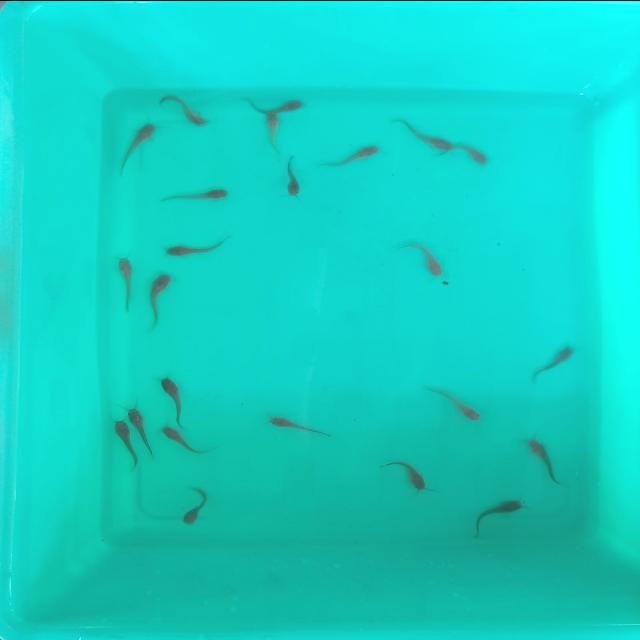lele: (116, 117, 166, 174), (426, 382, 486, 425), (467, 498, 529, 538), (388, 116, 447, 158), (394, 240, 446, 282), (158, 91, 212, 129), (528, 434, 564, 488), (159, 422, 213, 457), (158, 374, 190, 432), (529, 342, 577, 380), (128, 403, 160, 457), (322, 142, 388, 168), (443, 132, 490, 166), (111, 422, 142, 471), (380, 460, 424, 490), (182, 488, 212, 528), (268, 416, 328, 436), (150, 272, 170, 330), (157, 186, 229, 202), (240, 95, 300, 114), (163, 238, 226, 256), (119, 256, 135, 312), (284, 156, 302, 198), (264, 114, 282, 154)
